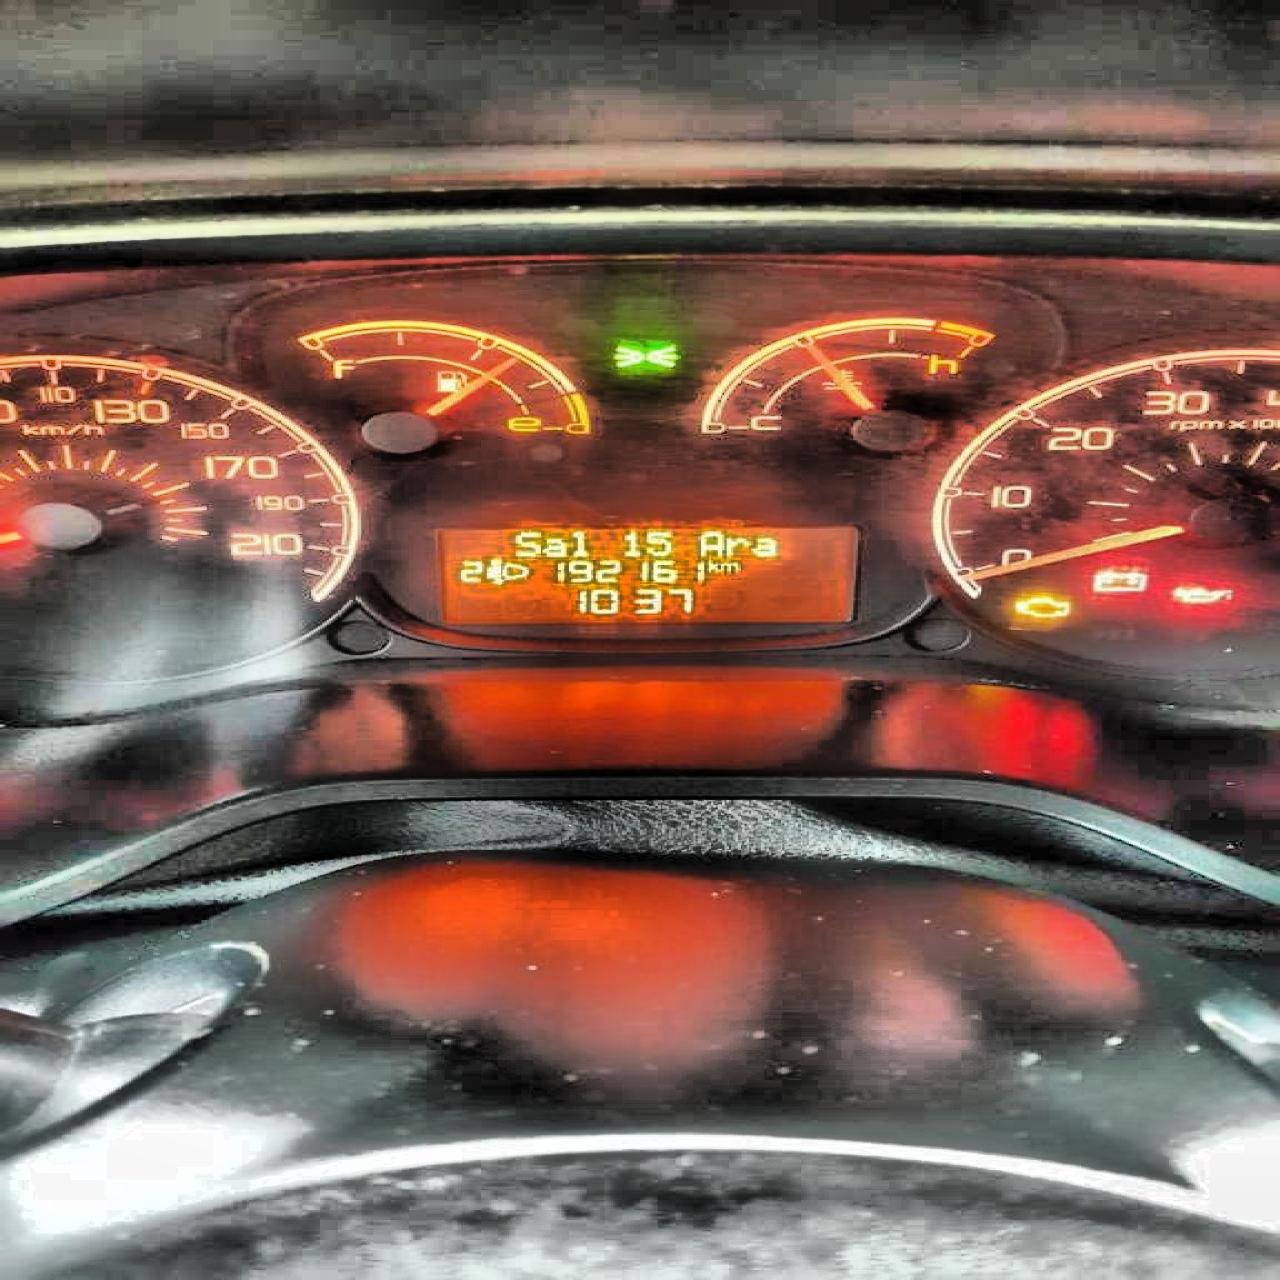0: (586, 587, 615, 613)
1: (620, 529, 638, 557), (573, 587, 587, 617), (692, 558, 704, 584), (635, 558, 648, 583), (553, 558, 565, 583)
2: (458, 558, 482, 583), (595, 559, 620, 581)
3: (629, 586, 660, 615)
5: (645, 529, 674, 557)
6: (648, 558, 675, 583)
7: (667, 585, 693, 614)
9: (567, 558, 593, 583)
X: (749, 533, 778, 558), (513, 529, 538, 554), (696, 531, 720, 557), (568, 529, 591, 554), (543, 536, 565, 556), (722, 536, 744, 554), (719, 561, 738, 571), (704, 558, 717, 572)
odometer: (431, 524, 862, 624)
